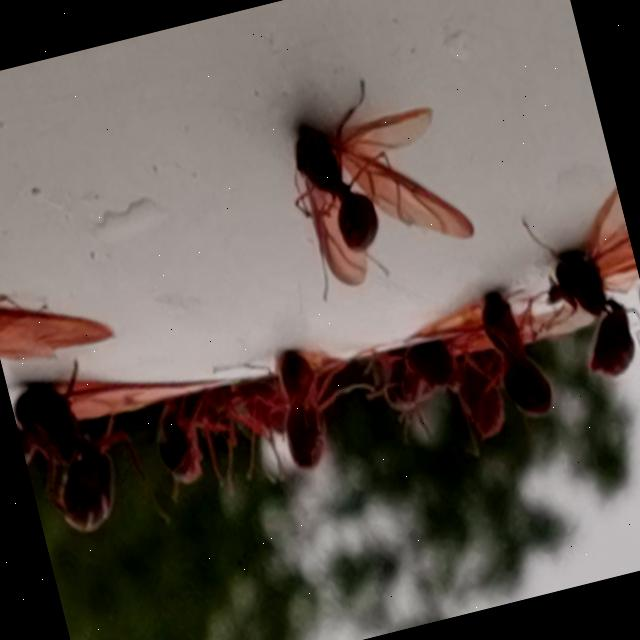Dead-Female-Alate: (4, 320, 270, 554)
Dead-Male-Alate: (268, 60, 482, 303), (354, 292, 614, 480), (396, 271, 606, 464), (517, 183, 640, 415), (212, 330, 390, 487), (146, 372, 294, 510), (209, 368, 315, 492), (623, 284, 640, 398)
